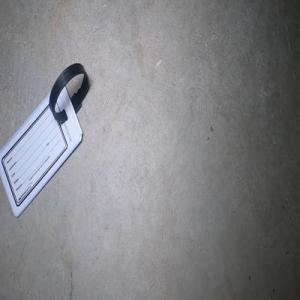LuggageTag: (0, 61, 89, 219)
